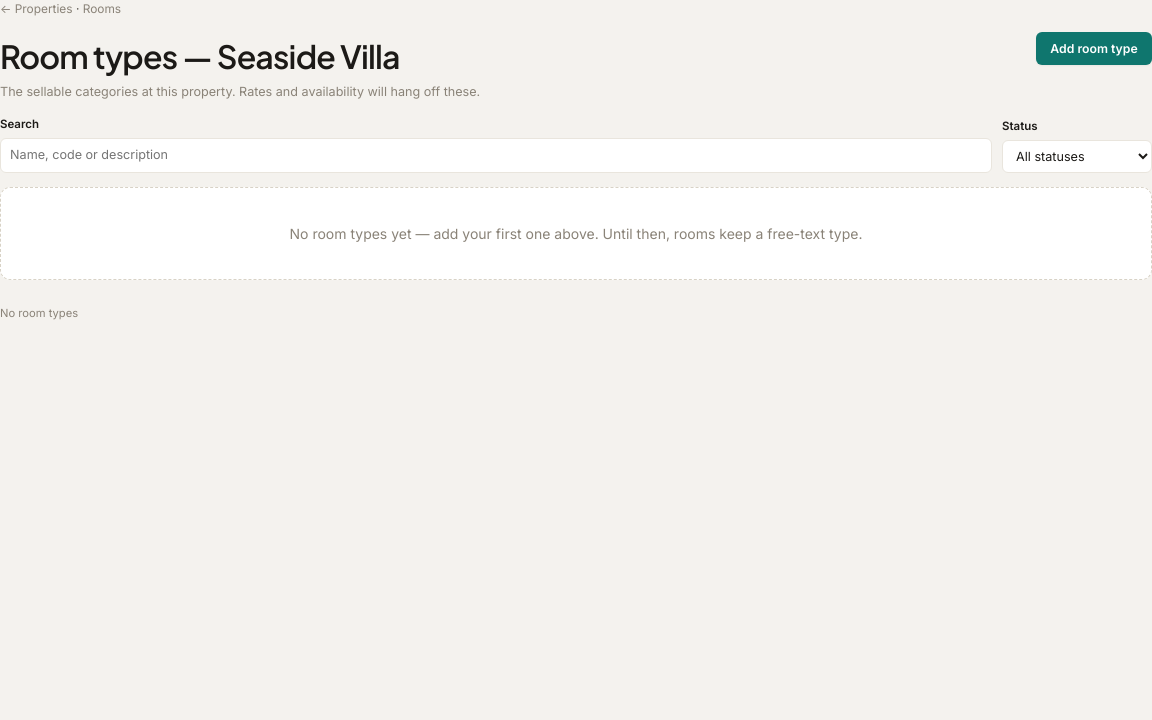
Test: RoomTypesPage — create and edit › rejects a malformed code before sending anything
Expected: the text "No room types yet" is shown, x1=290 y1=224 x2=862 y2=242
Click the button "Add room type" at (1094, 48), box x1=1036 y1=32 x2=1151 y2=65
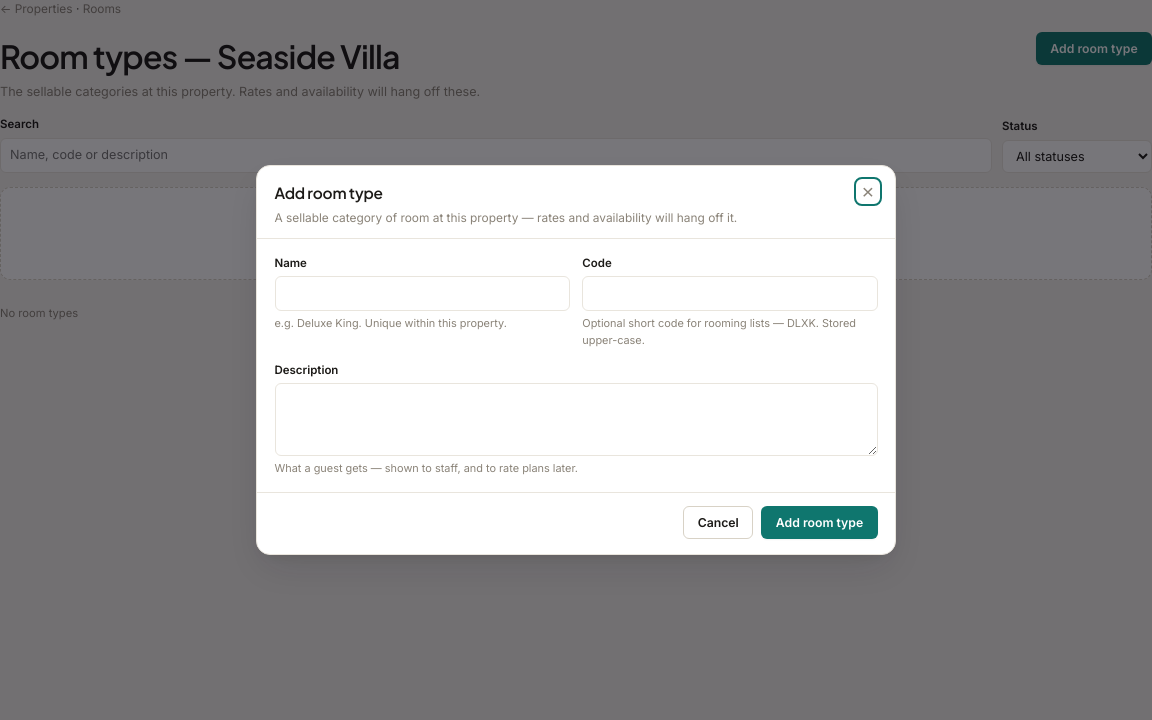
Type "Garden Suite" into the field labelled "Name" at (422, 294), box x1=274 y1=276 x2=570 y2=311
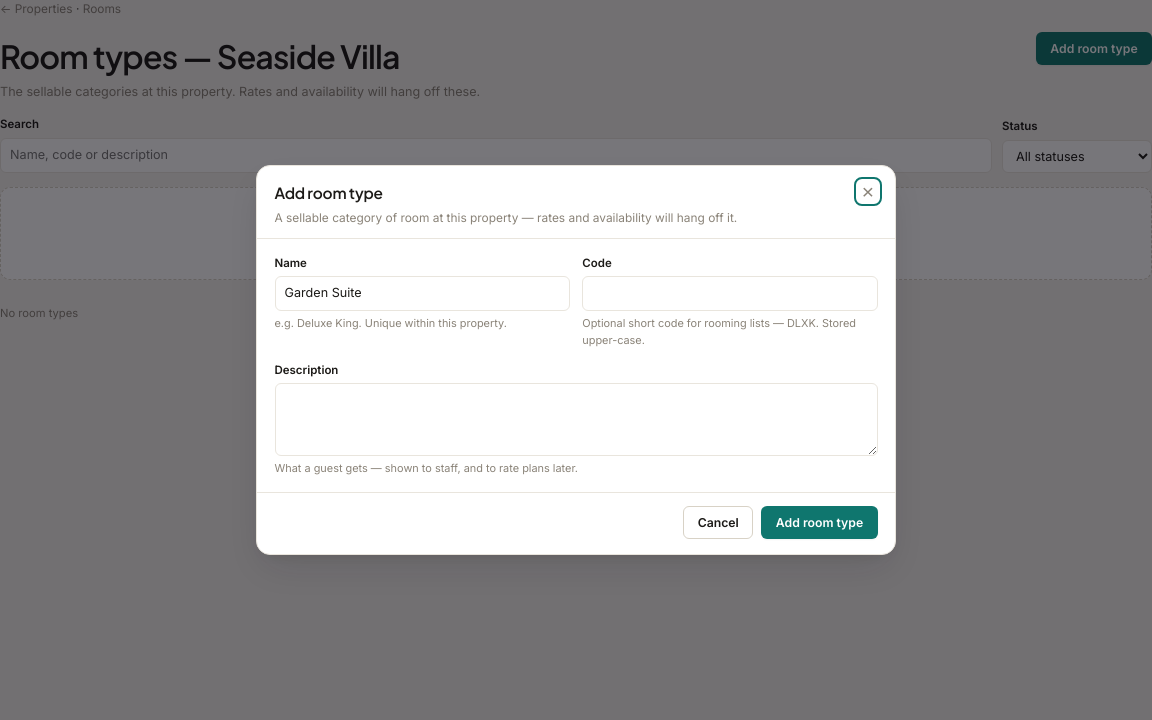
Type "GS 1!" into the field labelled "Code" at (730, 294), box x1=582 y1=276 x2=878 y2=311
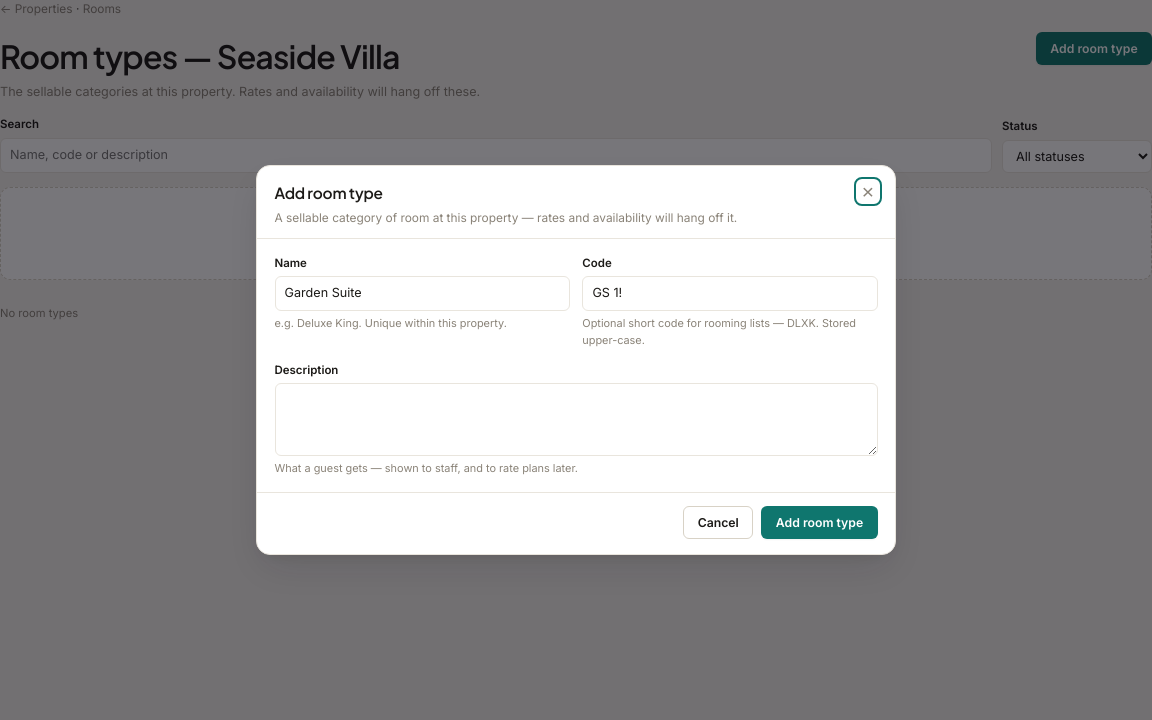
Click the button "Add room type" at (820, 522), box x1=762 y1=506 x2=878 y2=539
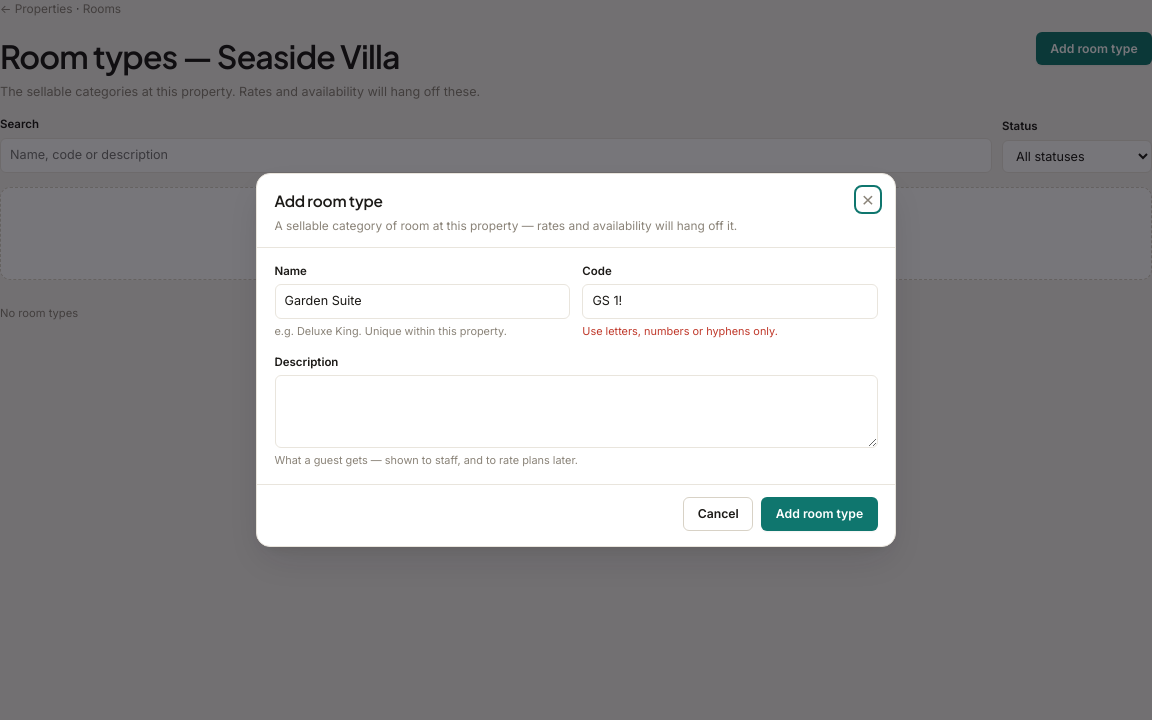
Result: the text "Use letters, numbers or hyphens only." is shown at x1=582 y1=324 x2=778 y2=338
